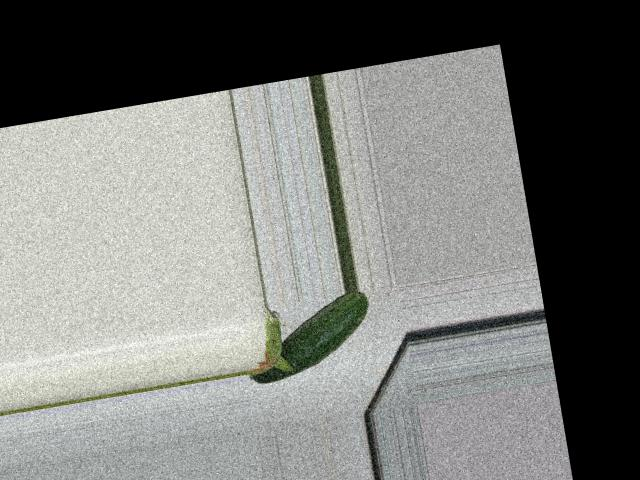cucumber: (238, 289, 378, 385)
